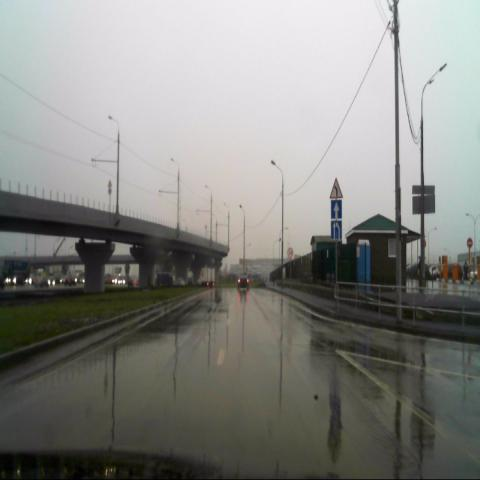1_11_1: (330, 177, 342, 199)
